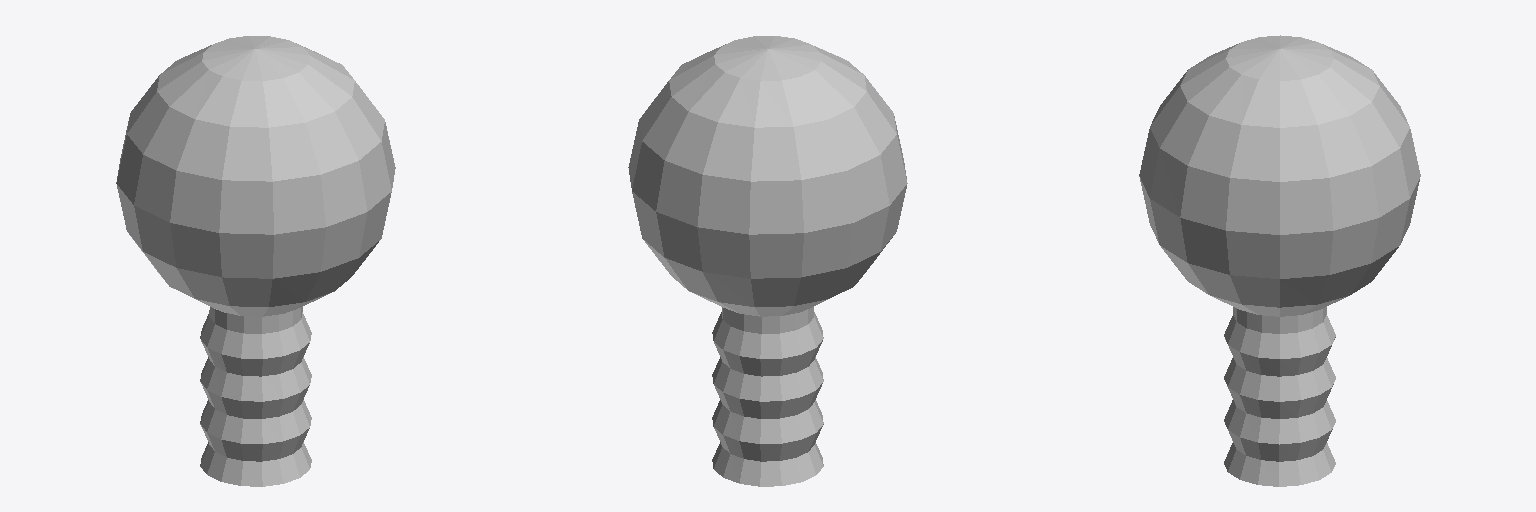
Rendered from PointLight.obj.
The picture shows the model from 3 angles: view 1: azimuth 30°, elevation 25°; view 2: azimuth 150°, elevation 25°; view 3: azimuth 270°, elevation 25°; orthographic projection.
Parts seen in each view (by area): view 1: Plane; view 2: Plane; view 3: Plane.
Part boxes in pixels (x1,y1,x2,y2): Plane: (116,36,395,486); Plane: (628,36,907,486); Plane: (1139,35,1420,486).
Size of the model in its own units: 0.3243 by 0.5266 by 0.3243.